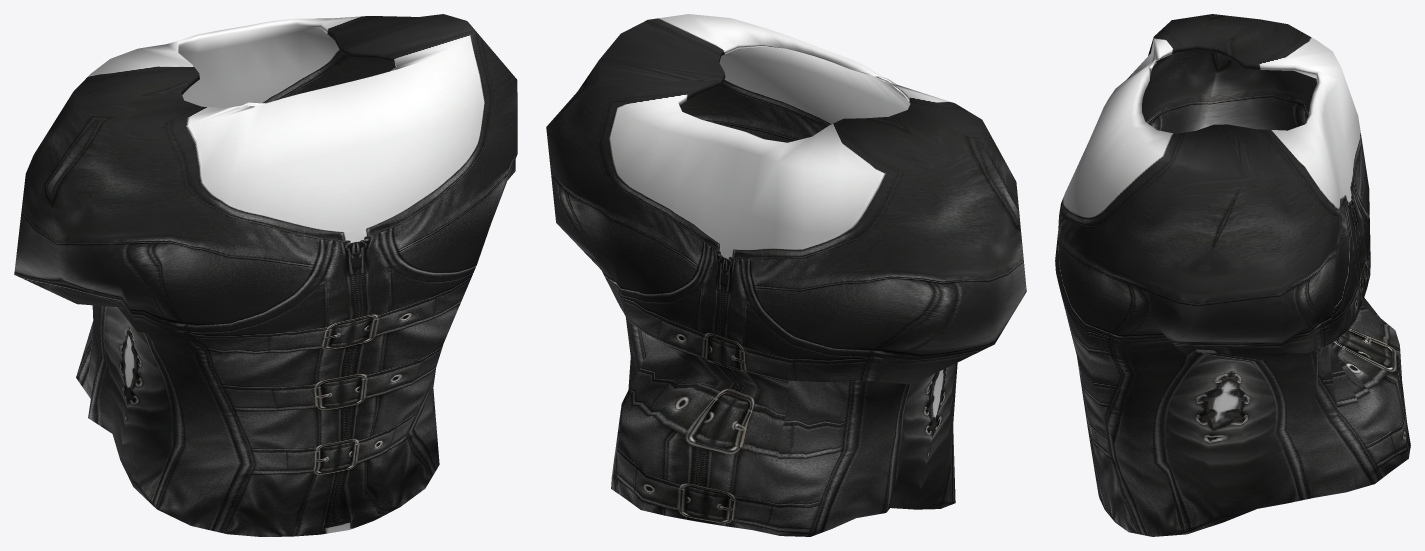
The model's file is 8fd5b680-6bcc-4221-aadb-2783f55ceab2.glb.
3 renders of one model, left to right at view 1: azimuth 30°, elevation 25°; view 2: azimuth 150°, elevation 25°; view 3: azimuth 270°, elevation 25°, orthographic. The views are drawn at different scales.
Visible parts, largest first — view 1: garment; view 2: garment; view 3: garment.
Part boxes in pixels (x1,y1,x2,y2): garment: (14,14,517,536); garment: (546,14,1026,536); garment: (1055,14,1410,536).
Size of the model in its own units: 0.5519 by 0.5036 by 0.3913.
1 material, 1 textured.
